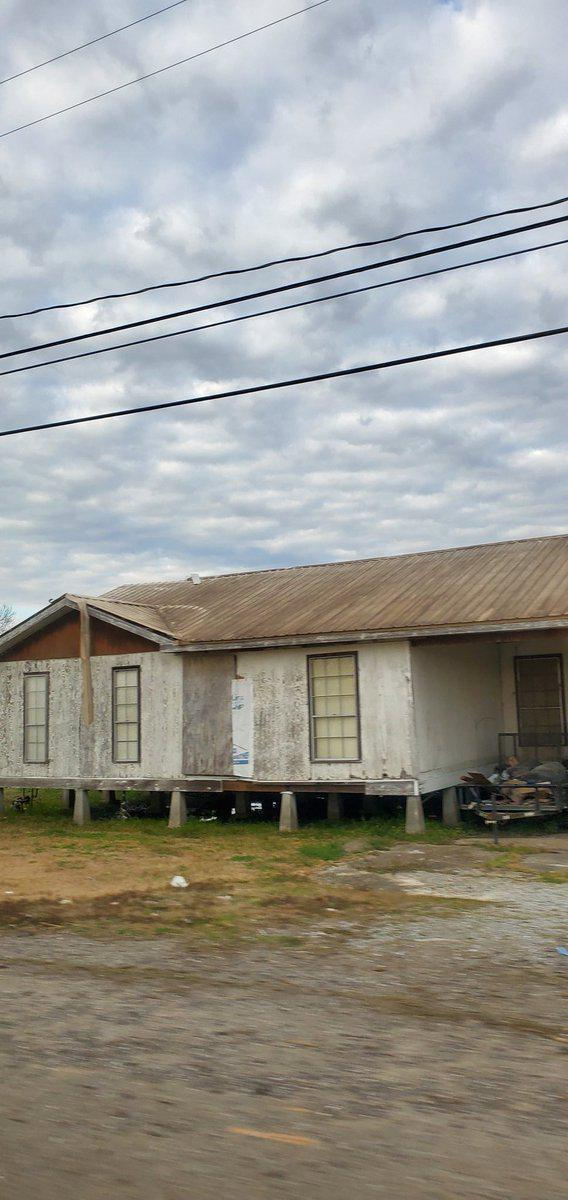minor: (8, 525, 568, 819)
